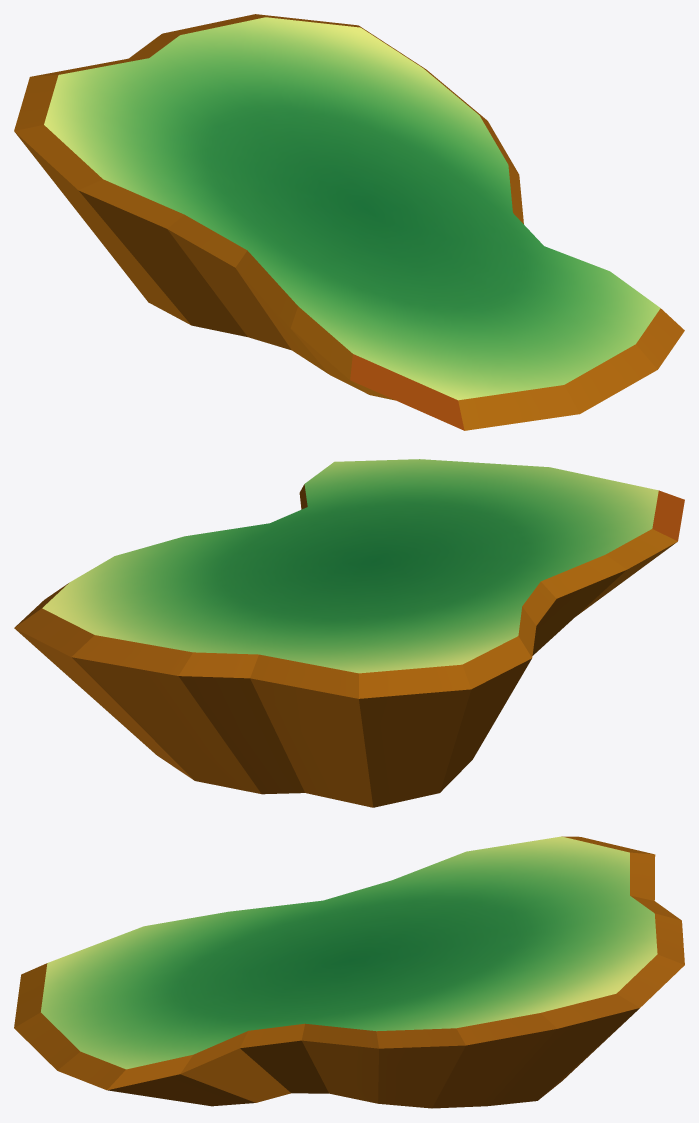
The model's file is cliff_4.fbx.
The picture shows the model from 3 angles, top to bottom: view 1: azimuth 30°, elevation 25°; view 2: azimuth 150°, elevation 25°; view 3: azimuth 270°, elevation 25°; orthographic projection. The views are drawn at different scales.
Visible parts, largest first — view 1: Plane; view 2: Plane; view 3: Plane.
Boxes of the visible parts, x1,y1,x2,y2 form: Plane: (14,14,684,430); Plane: (14,459,684,807); Plane: (14,836,684,1108).
Size of the model in its own units: 1623 by 652 by 2660.
